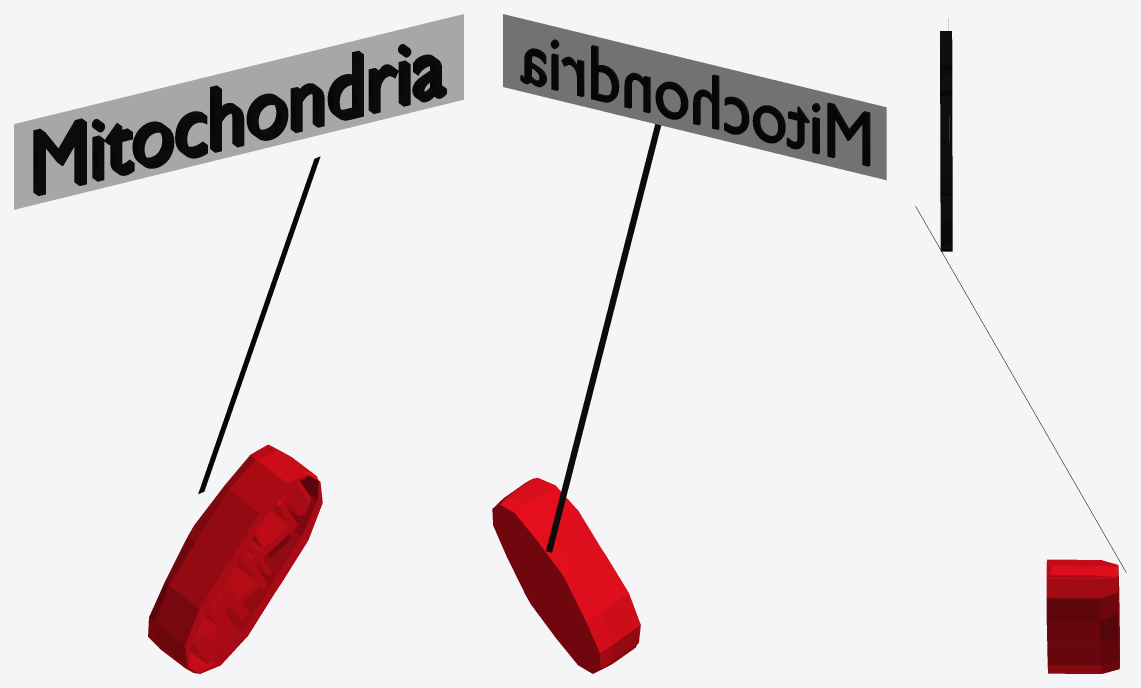
The model's file is mitochondria.gltf.
The picture shows the model from 3 angles, left to right: view 1: azimuth 30°, elevation 25°; view 2: azimuth 150°, elevation 25°; view 3: azimuth 270°, elevation 25°; orthographic projection. The views are drawn at different scales.
Visible parts, largest first — view 1: Plane.015, Cube.011, Text.015, Plane.034; view 2: Plane.015, Cube.011, Text.015, Plane.034; view 3: Cube.011, Text.015, Plane.034.
Boxes of the visible parts, x1,y1,x2,y2 form: Plane.015: [14, 14, 463, 209]; Cube.011: [148, 444, 322, 673]; Text.015: [33, 44, 446, 195]; Plane.034: [198, 156, 320, 493]; Plane.015: [503, 14, 886, 180]; Cube.011: [492, 478, 640, 673]; Text.015: [520, 39, 870, 166]; Plane.034: [546, 124, 661, 552]; Cube.011: [1046, 559, 1119, 673]; Text.015: [940, 31, 952, 251]; Plane.034: [915, 206, 1126, 572].
Bounding box in the file's own units: 1.33 × 1.85 × 0.6405.
